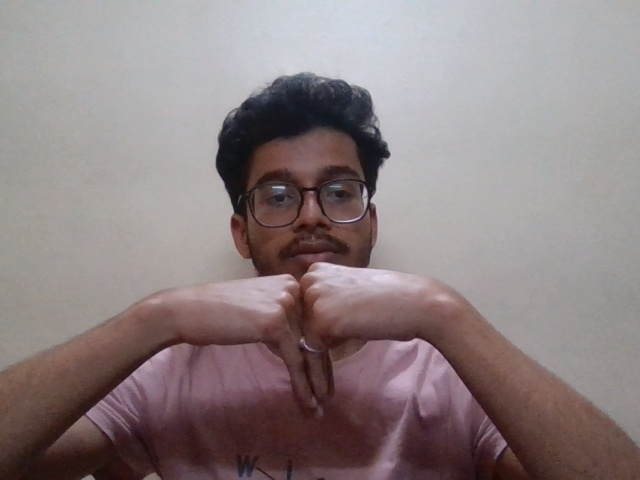yesterday: (184, 261, 436, 418)
